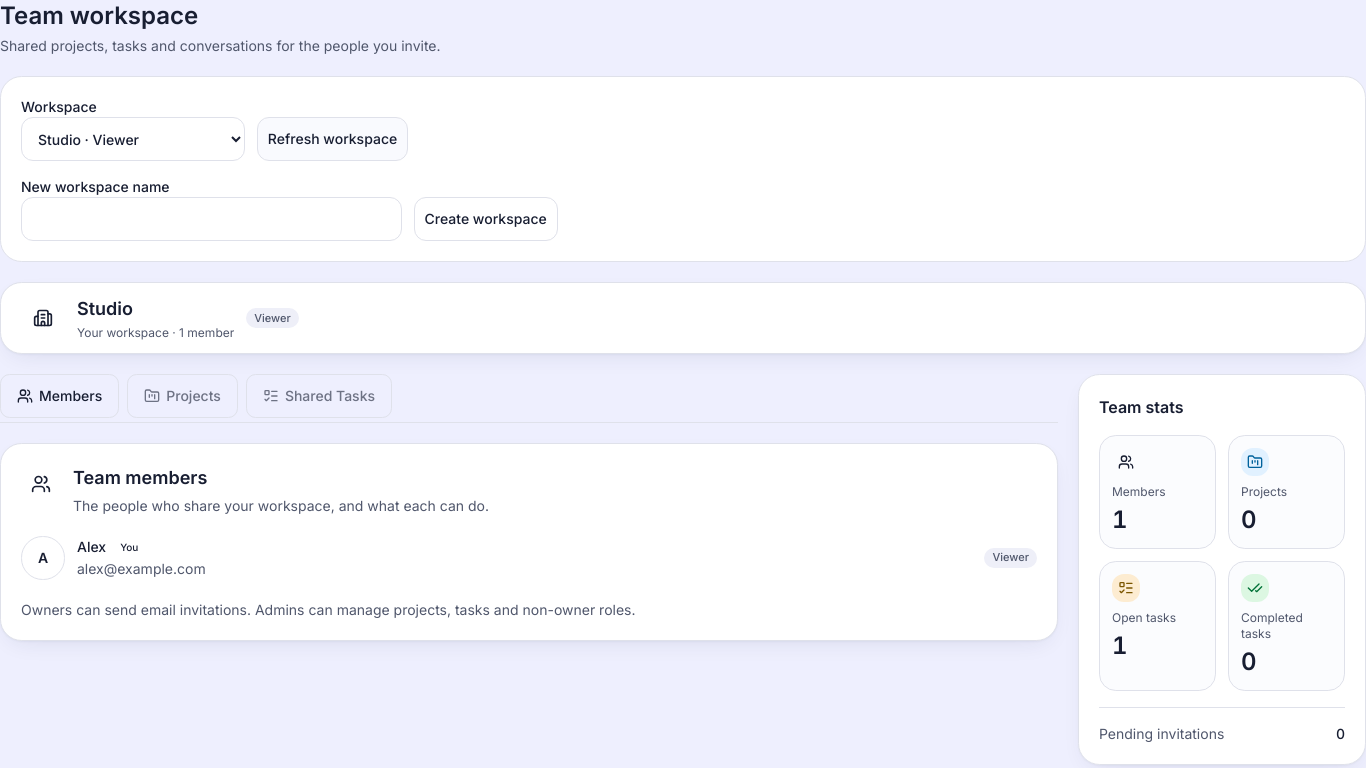
Test: account team UI › shows real members and keeps viewers read-only without demo controls
Expected: the text "alex@example.com" is shown, [77,559,206,579]
Expected: the tab "Members" is shown, [0,374,119,418]
Click the tab "Shared Tasks": {"x": 319, "y": 396} [246,374,392,418]
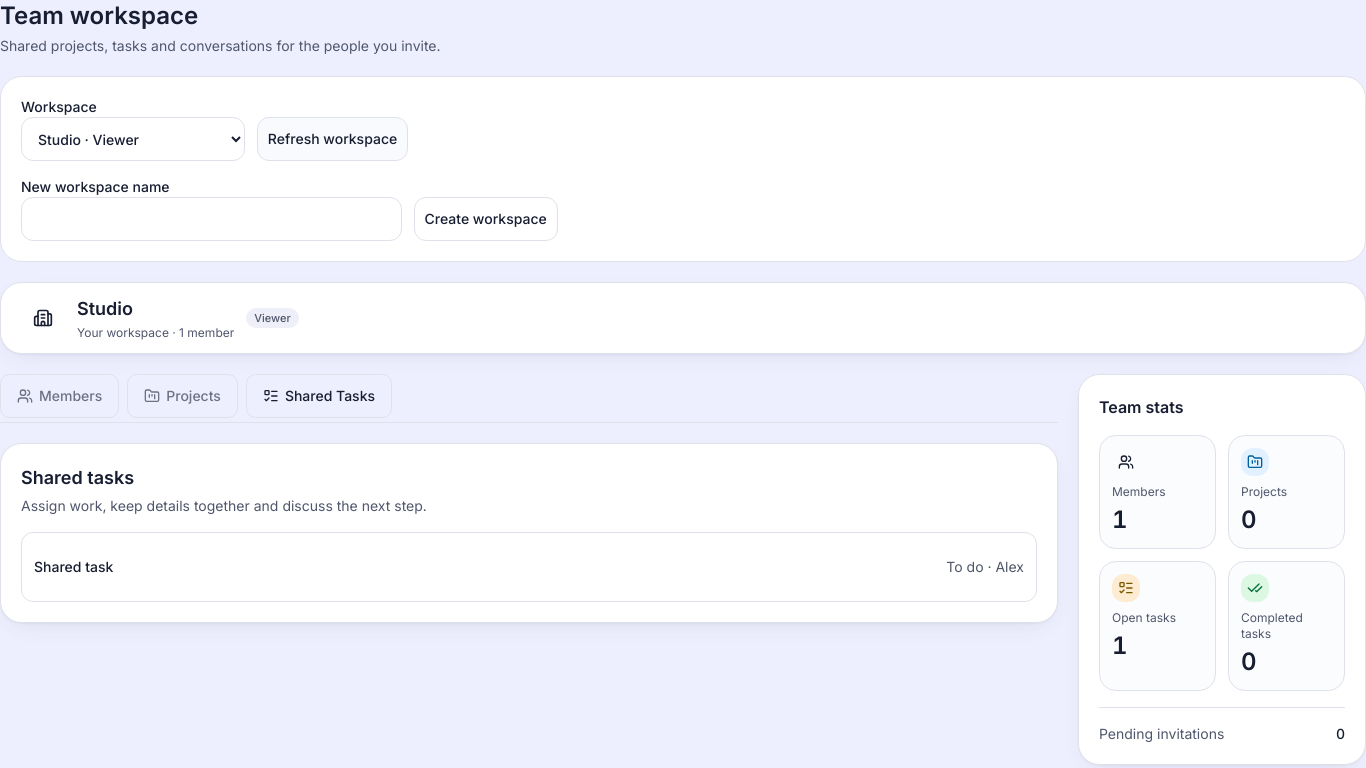
Click the button "Shared task": {"x": 74, "y": 567} [34,545,113,589]
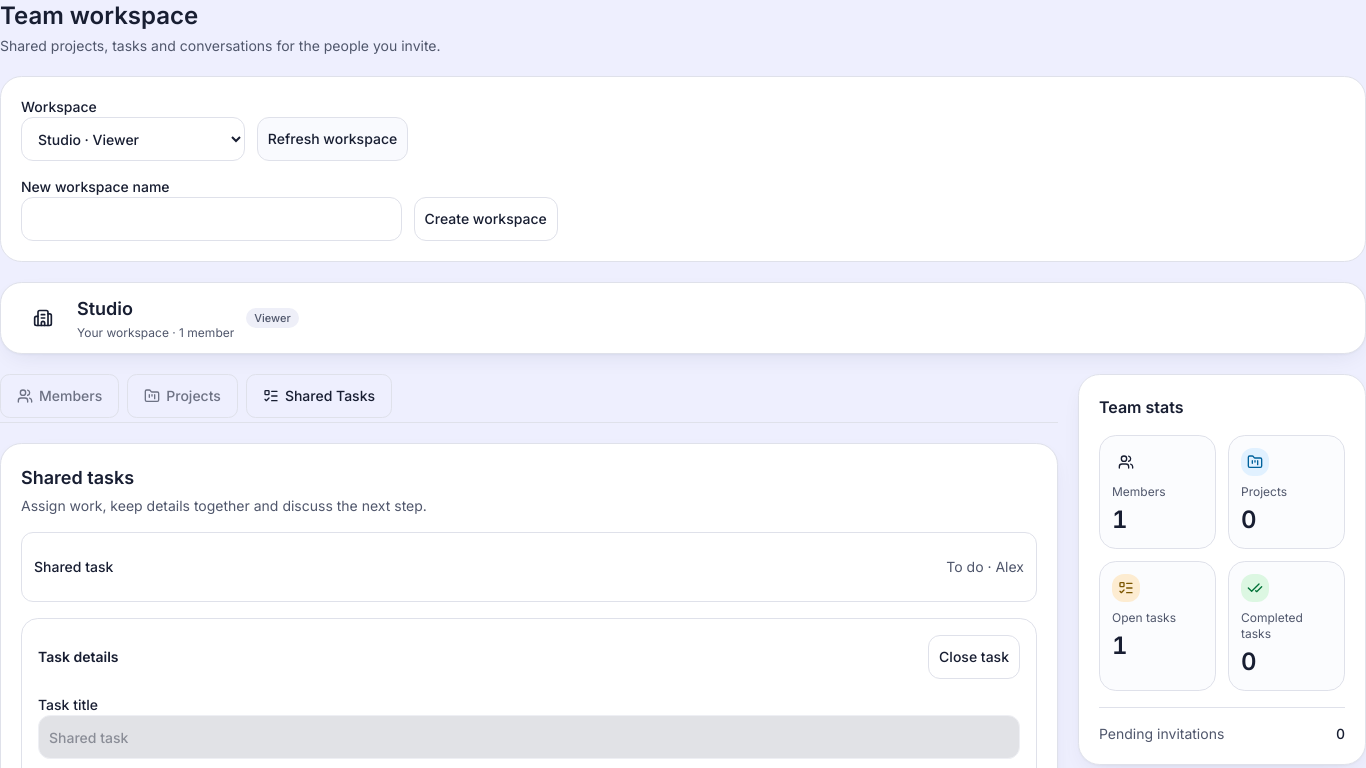
Expected: the field labelled "Task title" is disabled, [38,715,1020,759]
